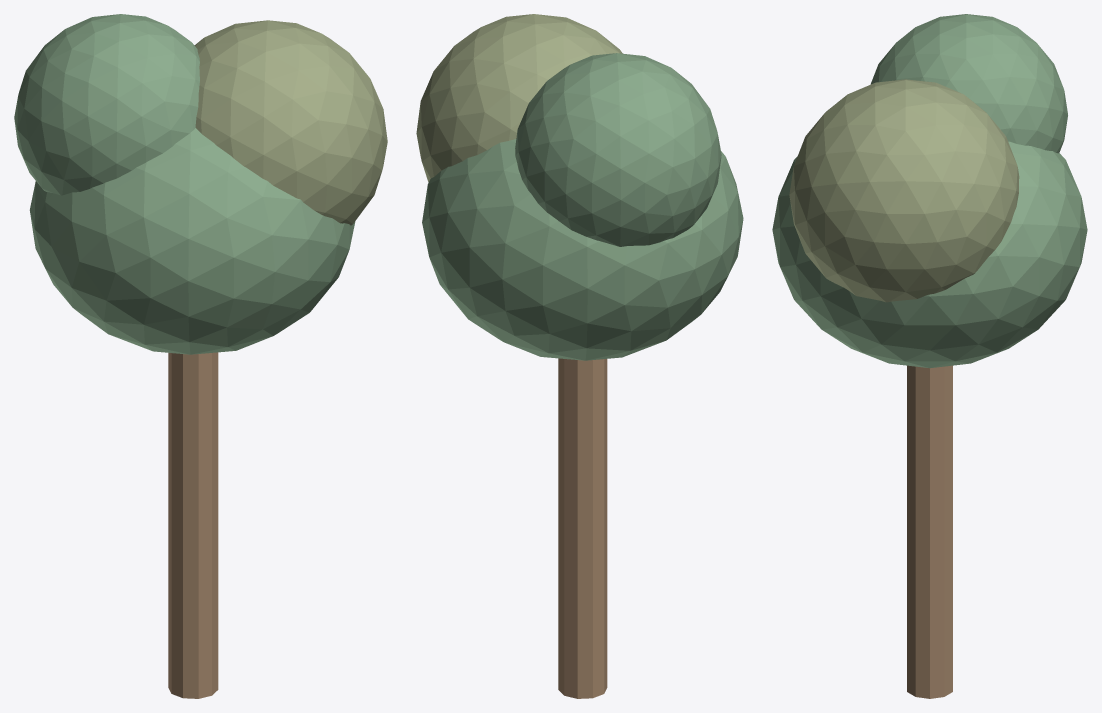
Rendered from street_tree_02.glb.
3 views of the same model, side by side, from view 1: azimuth 30°, elevation 25°; view 2: azimuth 150°, elevation 25°; view 3: azimuth 270°, elevation 25° (orthographic). The views are drawn at different scales.
Parts seen in each view (by area): view 1: crown1, crown2, crown3, trunk; view 2: crown1, crown3, trunk, crown2; view 3: crown2, crown1, trunk, crown3.
Part boxes in pixels (left/top/right/bottom): crown1: left=29, top=128, right=355, bottom=354; crown2: left=194, top=20, right=387, bottom=225; crown3: left=14, top=14, right=199, bottom=195; trunk: left=168, top=352, right=218, bottom=698; crown1: left=422, top=139, right=743, bottom=360; crown3: left=515, top=53, right=721, bottom=246; trunk: left=558, top=358, right=607, bottom=698; crown2: left=416, top=14, right=622, bottom=182; crown2: left=789, top=79, right=1019, bottom=302; crown1: left=772, top=141, right=1087, bottom=368; trunk: left=907, top=365, right=952, bottom=698; crown3: left=870, top=14, right=1067, bottom=153.
Size of the model in its own units: 1.43 by 2.91 by 1.3.
